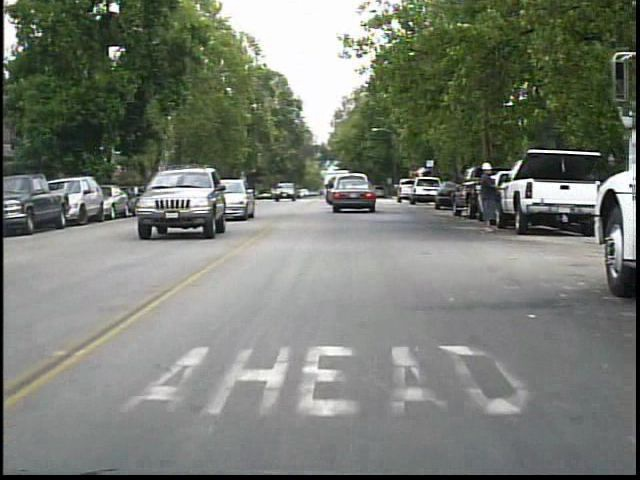person: (475, 159, 506, 237)
